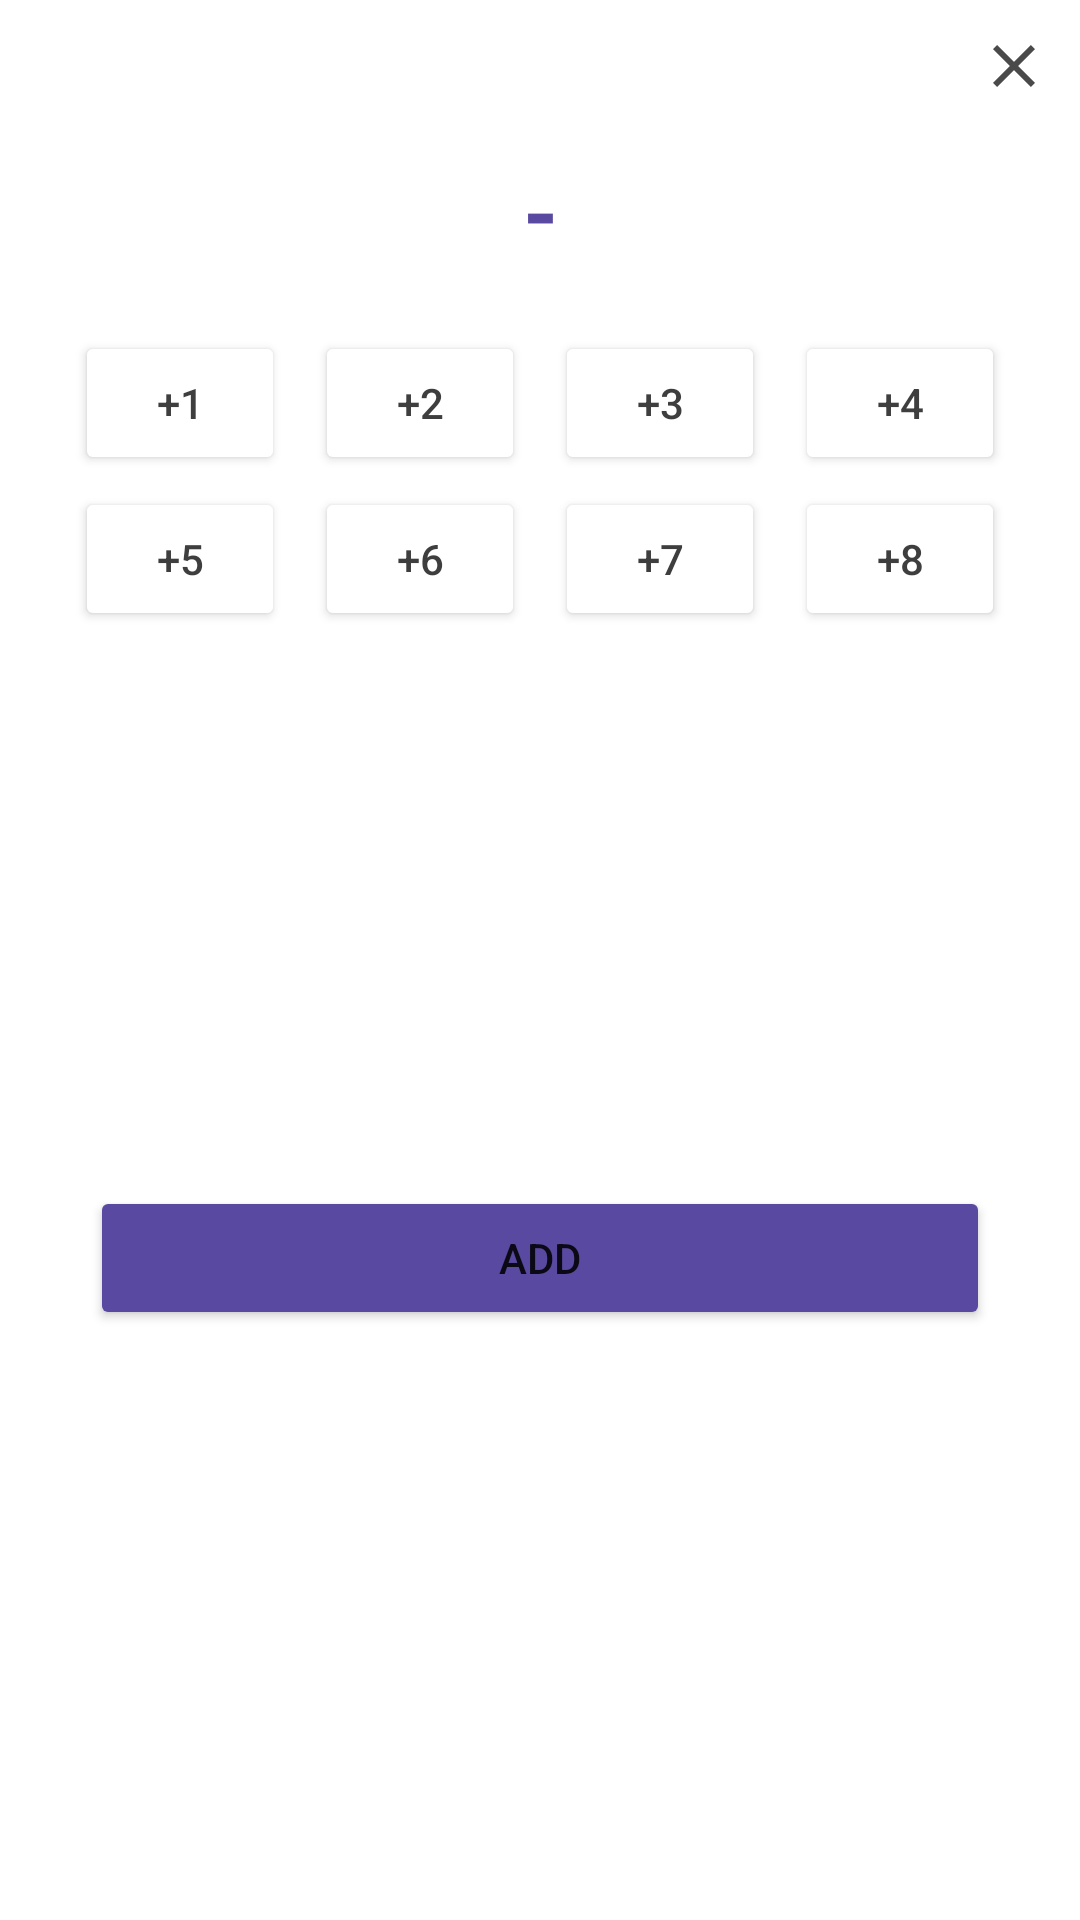

Icon click points for this 1080 × 1920 phone screenshot, format (x,y):
close add sleep pop up modal: (1014,66)
